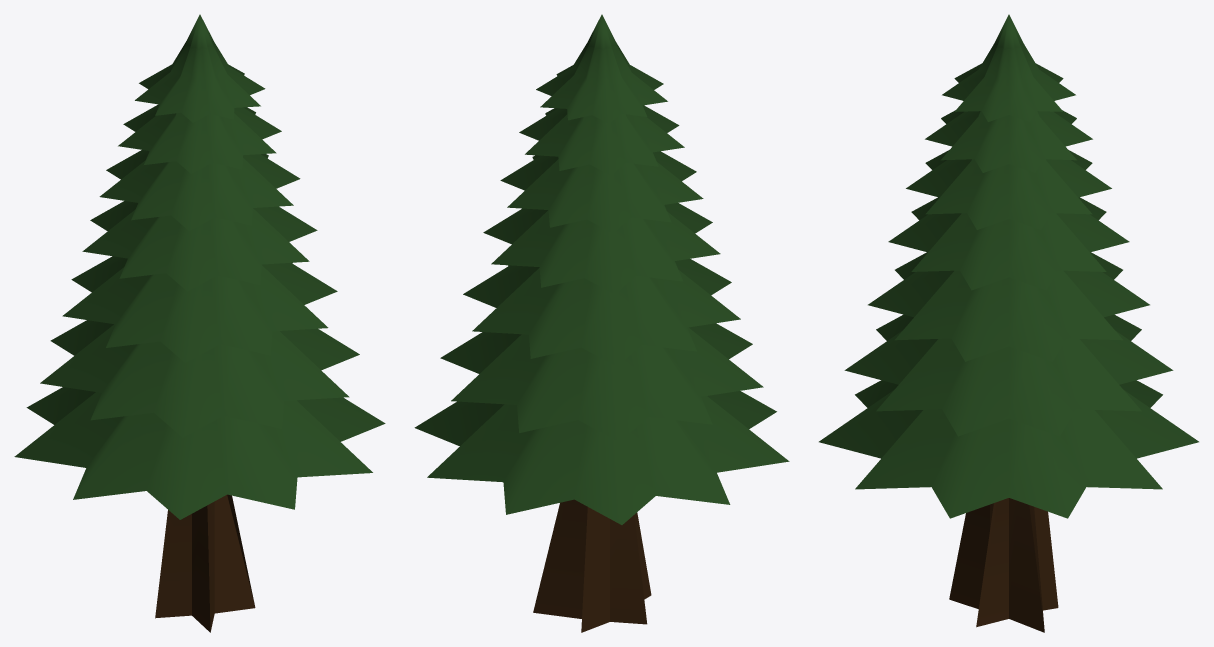
3 views of the same model, side by side, from view 1: azimuth 30°, elevation 25°; view 2: azimuth 150°, elevation 25°; view 3: azimuth 270°, elevation 25° (orthographic).
Visible parts, largest first — view 1: arvore2; view 2: arvore2; view 3: arvore2.
Part boxes in pixels (left/top/right/bottom): arvore2: left=14, top=14, right=385, bottom=632; arvore2: left=414, top=14, right=789, bottom=632; arvore2: left=819, top=14, right=1198, bottom=632.
Bounding box in the file's own units: 2.74 × 4.97 × 2.88.
